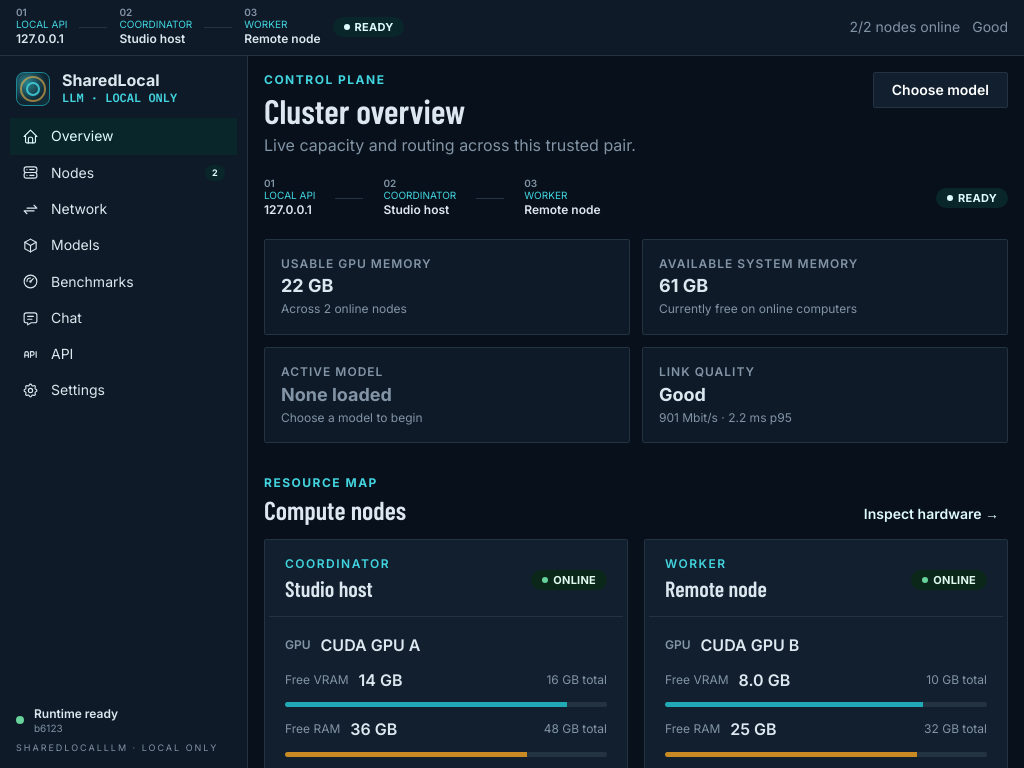
Test case: SharedLocalLLM app › filters and selects a model while preserving fit labels
Check: the heading "Cluster overview" is shown, box [264,90,465,131]
Click the button "Models": (124, 245) [10,227,237,264]
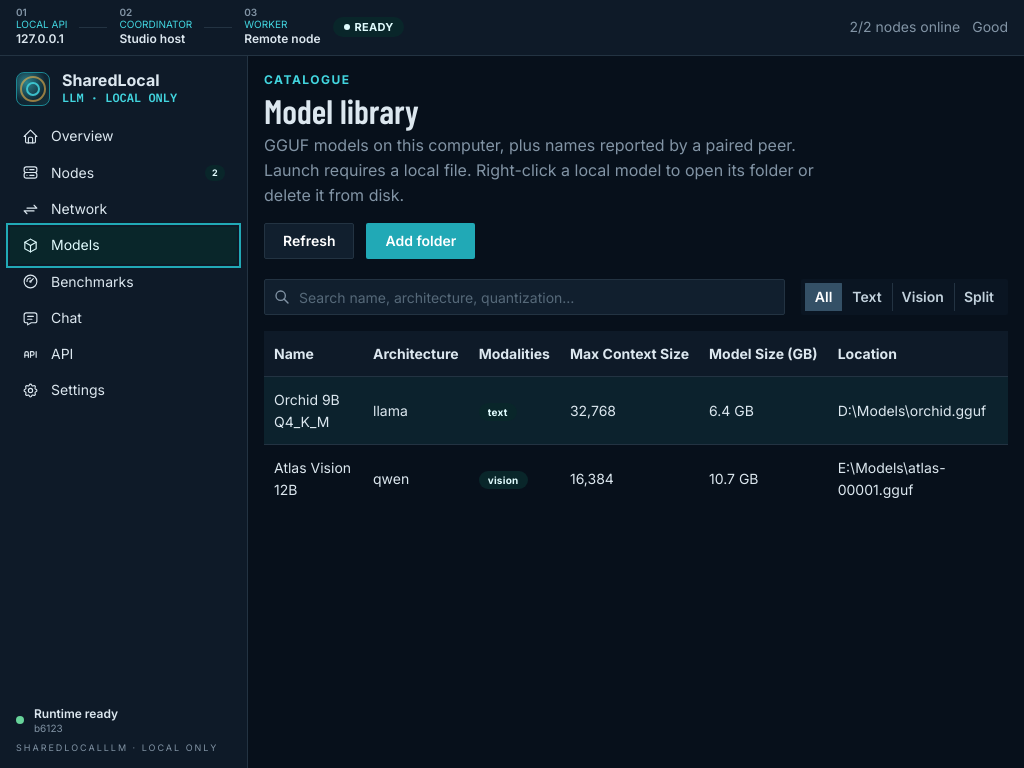
In the search field named "search models": (524, 297) [264,279,785,315], type "vision"
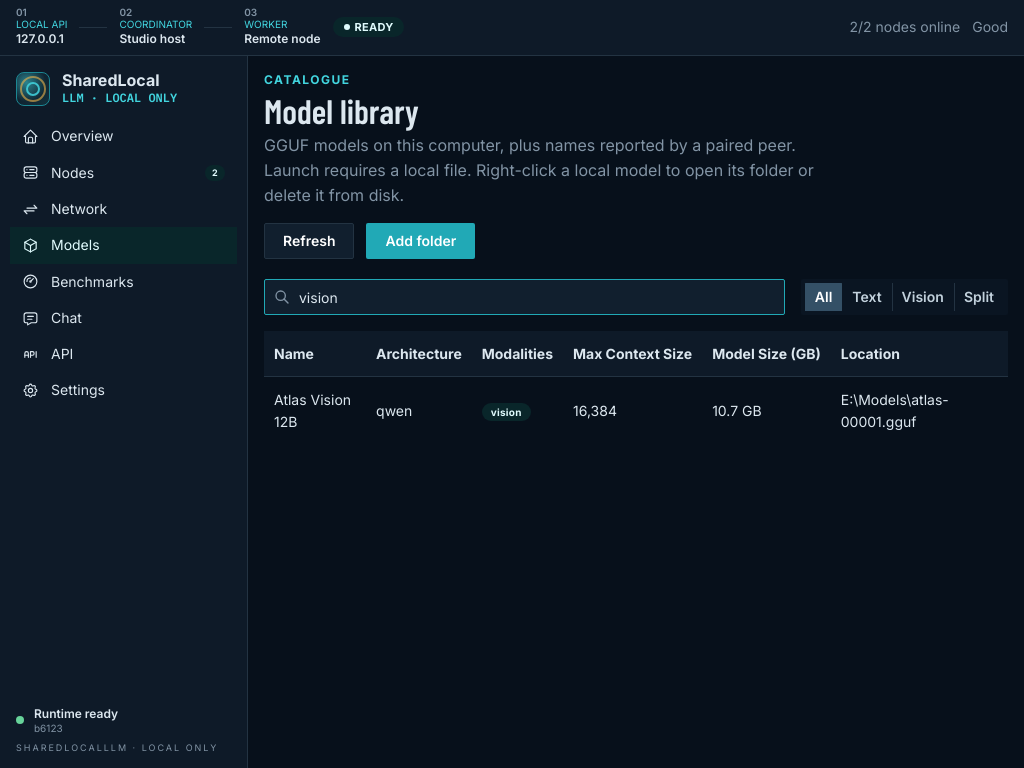
Check: the text "Atlas Vision" is shown, box [274,391,351,430]
Check: the text "Orchid" is gone
Click the text "Atlas Vision": (313, 400) [264,377,1008,444]
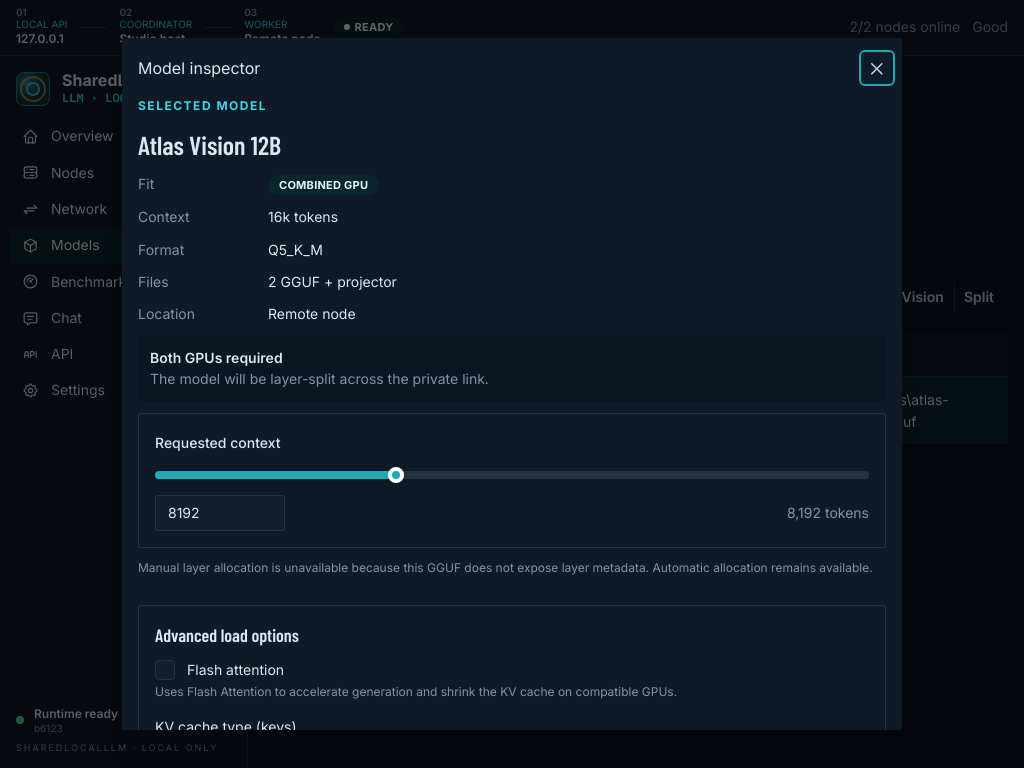
Check: the text "Combined GPU" is shown, box [279,176,368,194]
